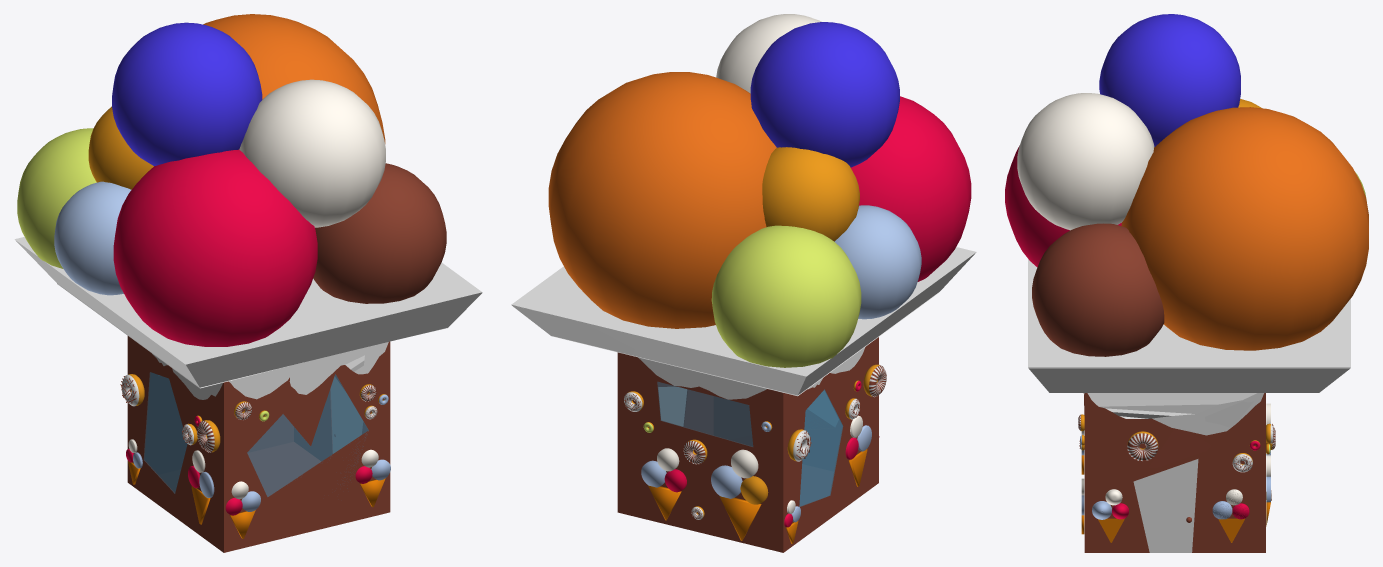
Rendered from IceCreamHouse.fbx.
3 renders of one model, left to right at view 1: azimuth 30°, elevation 25°; view 2: azimuth 150°, elevation 25°; view 3: azimuth 270°, elevation 25°, orthographic. The views are drawn at different scales.
Parts seen in each view (by area): view 1: House, IceCreamBall_Pink, IceCreamBall_Blue, IceCreamBall_White, IceCreamBall_Brown, IceCreamBall_Orange, IceCreamBall_Green, IceCreamBall_BrightBlue, Window_Left, WIndow_Back, IceCreamBall_Yellow, Door (+5 smaller); view 2: IceCreamBall_Orange, House, IceCreamBall_Green, IceCreamBall_Blue, IceCreamBall_Pink, IceCreamBall_Yellow, IceCreamBall_BrightBlue, WIndow_Right, WIndow_Back, IceCreamBall_White, IceCreamBalls_Left_Big, IceCreamBalls_Left_Small (+6 smaller); view 3: IceCreamBall_Orange, House, IceCreamBall_White, IceCreamBall_Brown, IceCreamBall_Blue, Door, IceCreamBall_Pink, IceCreamBalls_Front_Right, IceCreamBalls_Front_Left, FrontDonut.
Boxes of the visible parts, <box> form: House: <box>14,237,482,552</box>; IceCreamBall_Pink: <box>113,149,317,346</box>; IceCreamBall_Blue: <box>112,22,262,166</box>; IceCreamBall_White: <box>239,79,385,227</box>; IceCreamBall_Brown: <box>313,163,446,303</box>; IceCreamBall_Orange: <box>203,14,385,143</box>; IceCreamBall_Green: <box>17,128,96,268</box>; IceCreamBall_BrightBlue: <box>54,181,131,295</box>; Window_Left: <box>247,374,368,496</box>; WIndow_Back: <box>143,372,187,493</box>; IceCreamBall_Yellow: <box>88,106,153,189</box>; Door: <box>331,376,362,453</box>; IceCreamBall_Orange: <box>548,72,776,328</box>; House: <box>511,247,976,552</box>; IceCreamBall_Green: <box>711,225,861,367</box>; IceCreamBall_Blue: <box>750,22,899,167</box>; IceCreamBall_Pink: <box>851,96,971,281</box>; IceCreamBall_Yellow: <box>762,147,859,241</box>; IceCreamBall_BrightBlue: <box>834,205,921,319</box>; WIndow_Right: <box>657,382,753,446</box>; WIndow_Back: <box>799,389,843,506</box>; IceCreamBall_White: <box>716,14,821,93</box>; IceCreamBalls_Left_Big: <box>711,449,768,504</box>; IceCreamBalls_Left_Small: <box>641,448,686,492</box>; IceCreamBall_Orange: <box>1121,107,1368,350</box>; House: <box>1028,259,1350,552</box>; IceCreamBall_White: <box>1017,93,1154,230</box>; IceCreamBall_Brown: <box>1032,223,1164,356</box>; IceCreamBall_Blue: <box>1099,14,1240,146</box>; Door: <box>1133,459,1198,552</box>; IceCreamBall_Pink: <box>1005,145,1121,267</box>; IceCreamBalls_Front_Right: <box>1092,489,1128,519</box>; IceCreamBalls_Front_Left: <box>1212,489,1249,519</box>; FrontDonut: <box>1127,431,1158,461</box>.
Bounding box in the file's own units: 3997 × 5681 × 4076.
